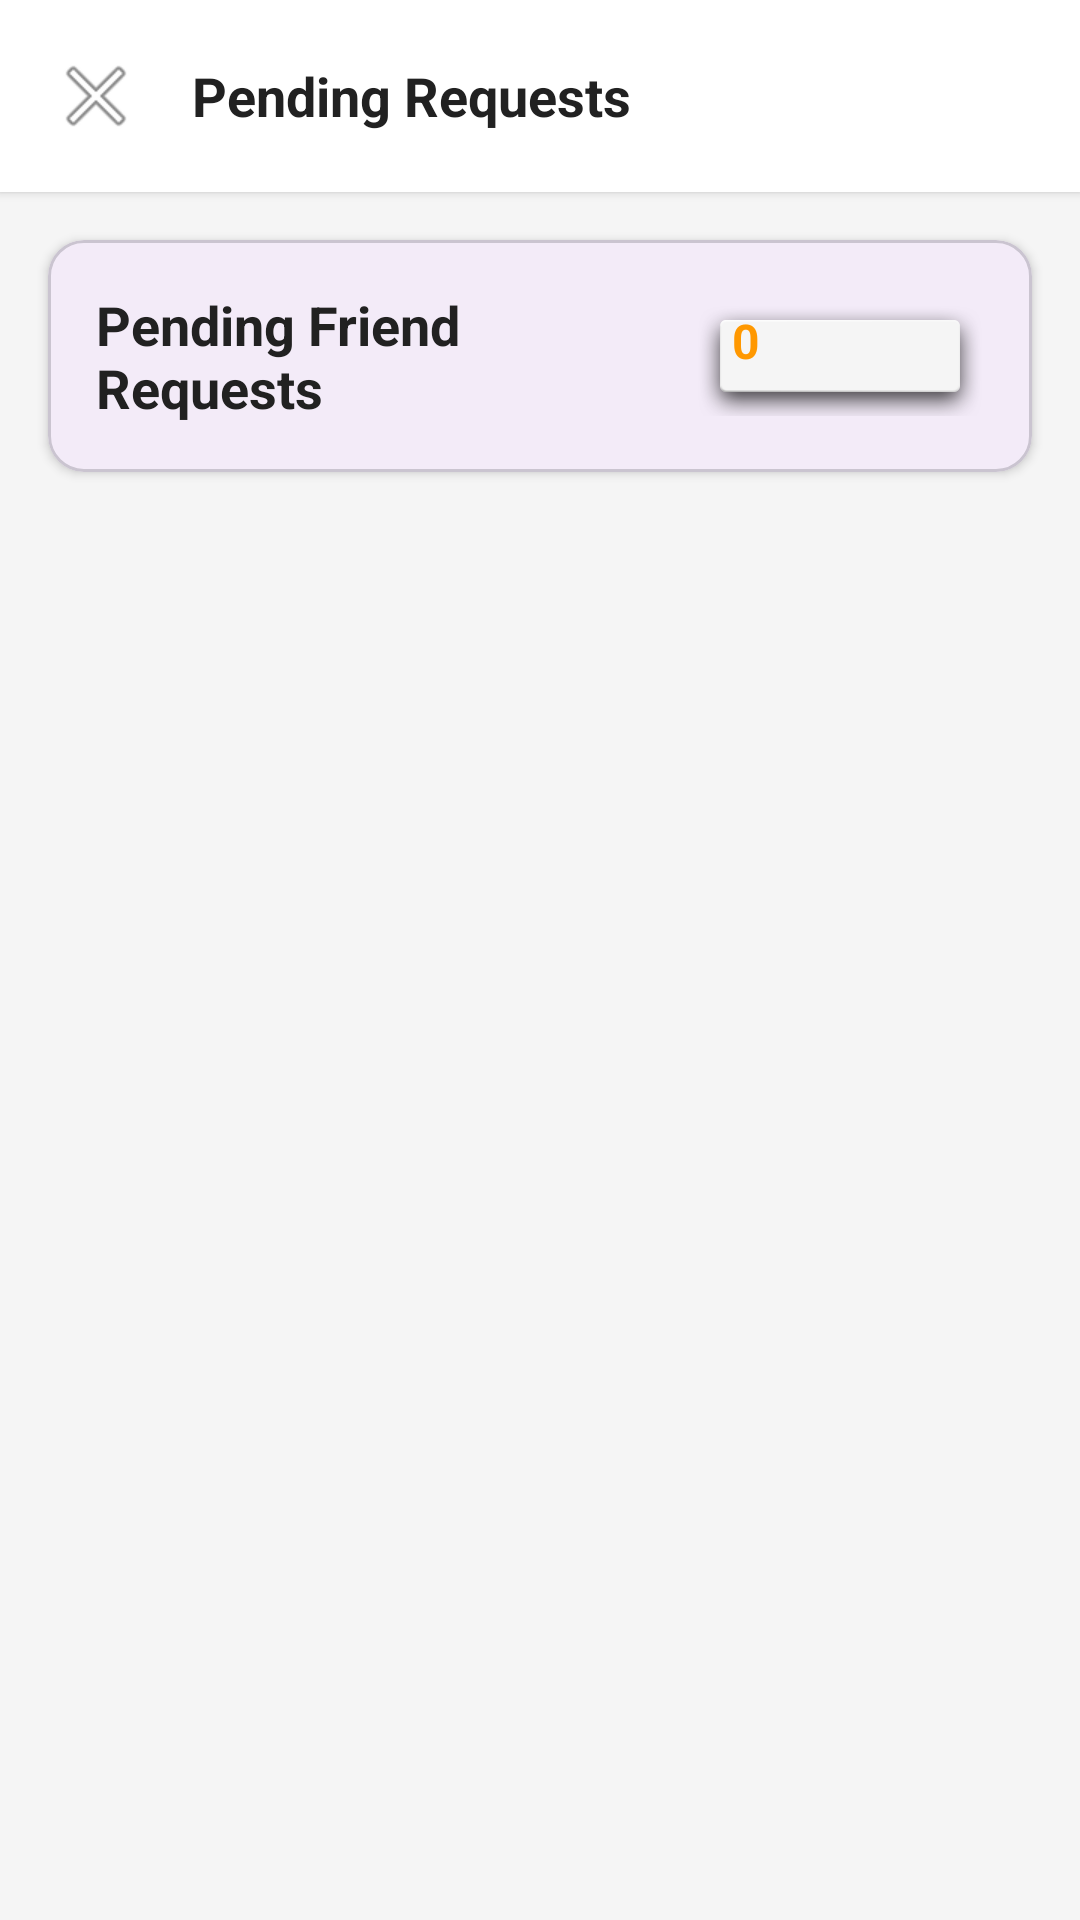

Icon bounding boxes for this 1080w x 1920h phone screenshot, format (x1, y1, x2, y2):
Back: (66, 66, 126, 126)
